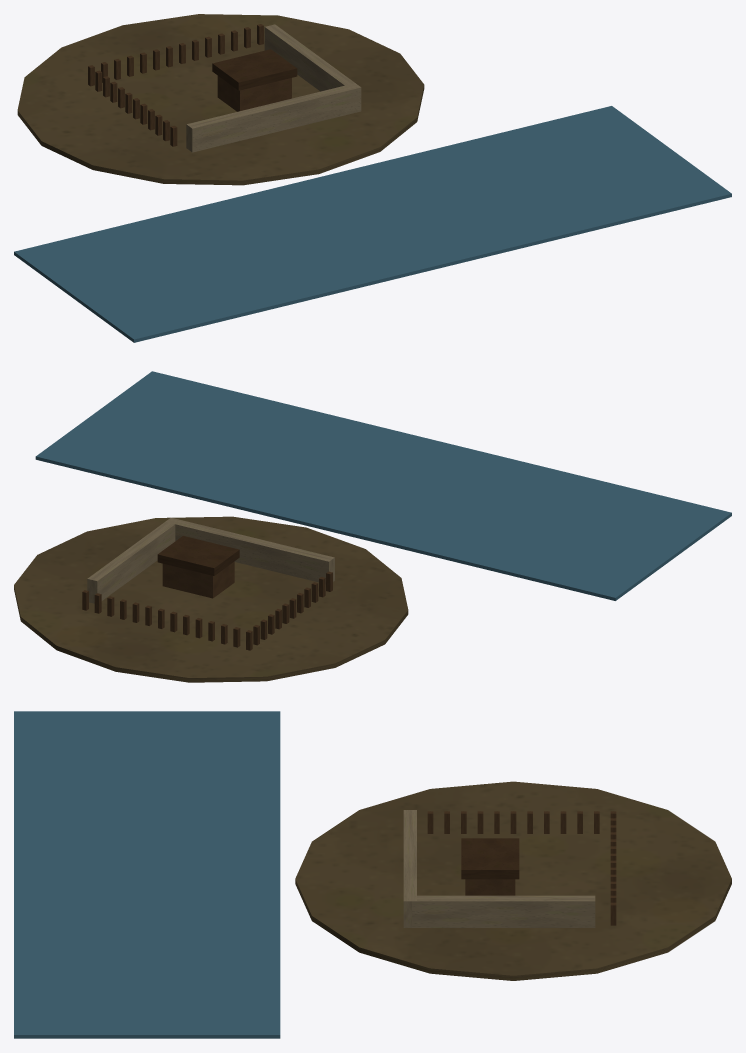
The model's file is tower-of-london-b15.glb.
3 views of the same model, one above another, from view 1: azimuth 30°, elevation 25°; view 2: azimuth 150°, elevation 25°; view 3: azimuth 270°, elevation 25° (orthographic). The views are drawn at different scales.
Bounding box in the file's own units: 46 × 2.81 × 43.11.
5 materials, 4 textured.
